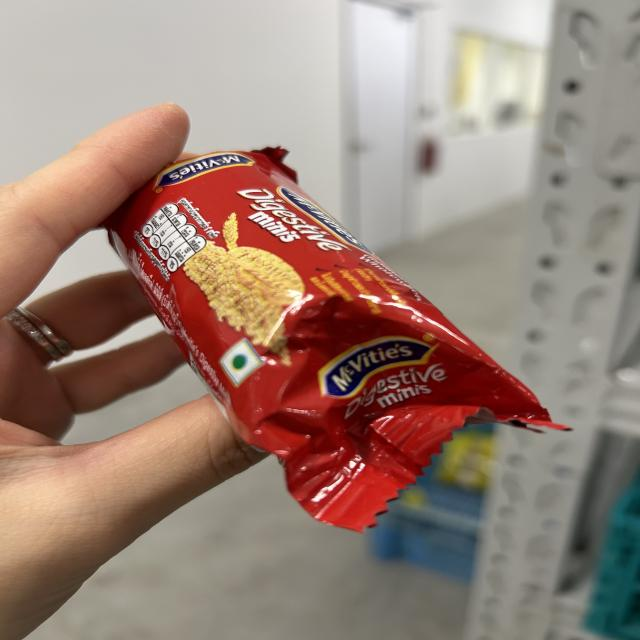object_name: (116, 154, 487, 481)
